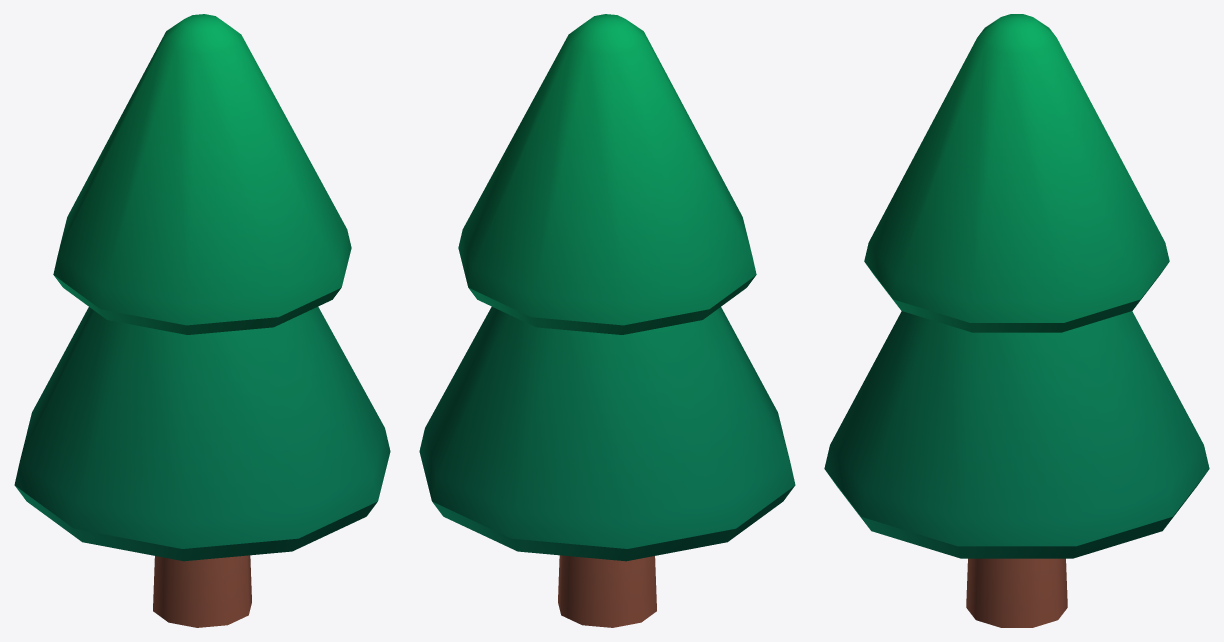
File: hex_tree_single_b.glb
3 renders of one model, left to right at view 1: azimuth 30°, elevation 25°; view 2: azimuth 150°, elevation 25°; view 3: azimuth 270°, elevation 25°, orthographic.
Visible parts, largest first — view 1: hex_tree_single_b; view 2: hex_tree_single_b; view 3: hex_tree_single_b.
Boxes of the visible parts, left/top/right/bottom form: hex_tree_single_b: left=14, top=14, right=390, bottom=627; hex_tree_single_b: left=419, top=14, right=795, bottom=627; hex_tree_single_b: left=824, top=14, right=1209, bottom=627.
Bounding box in the file's own units: 0.3424 × 0.6063 × 0.3601.
Materials: 1 (1 with a texture image).
